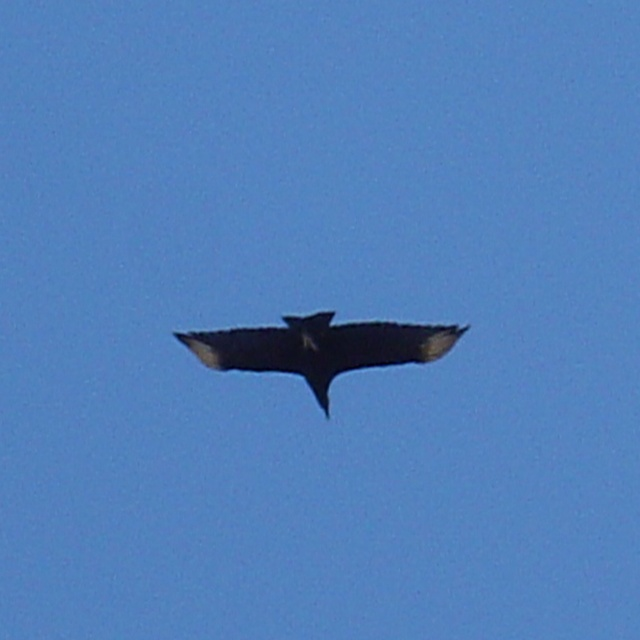Eagle: (171, 312, 472, 419)
